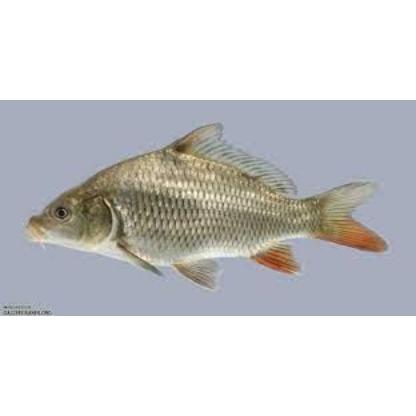ikan-mas: (24, 128, 388, 284)
